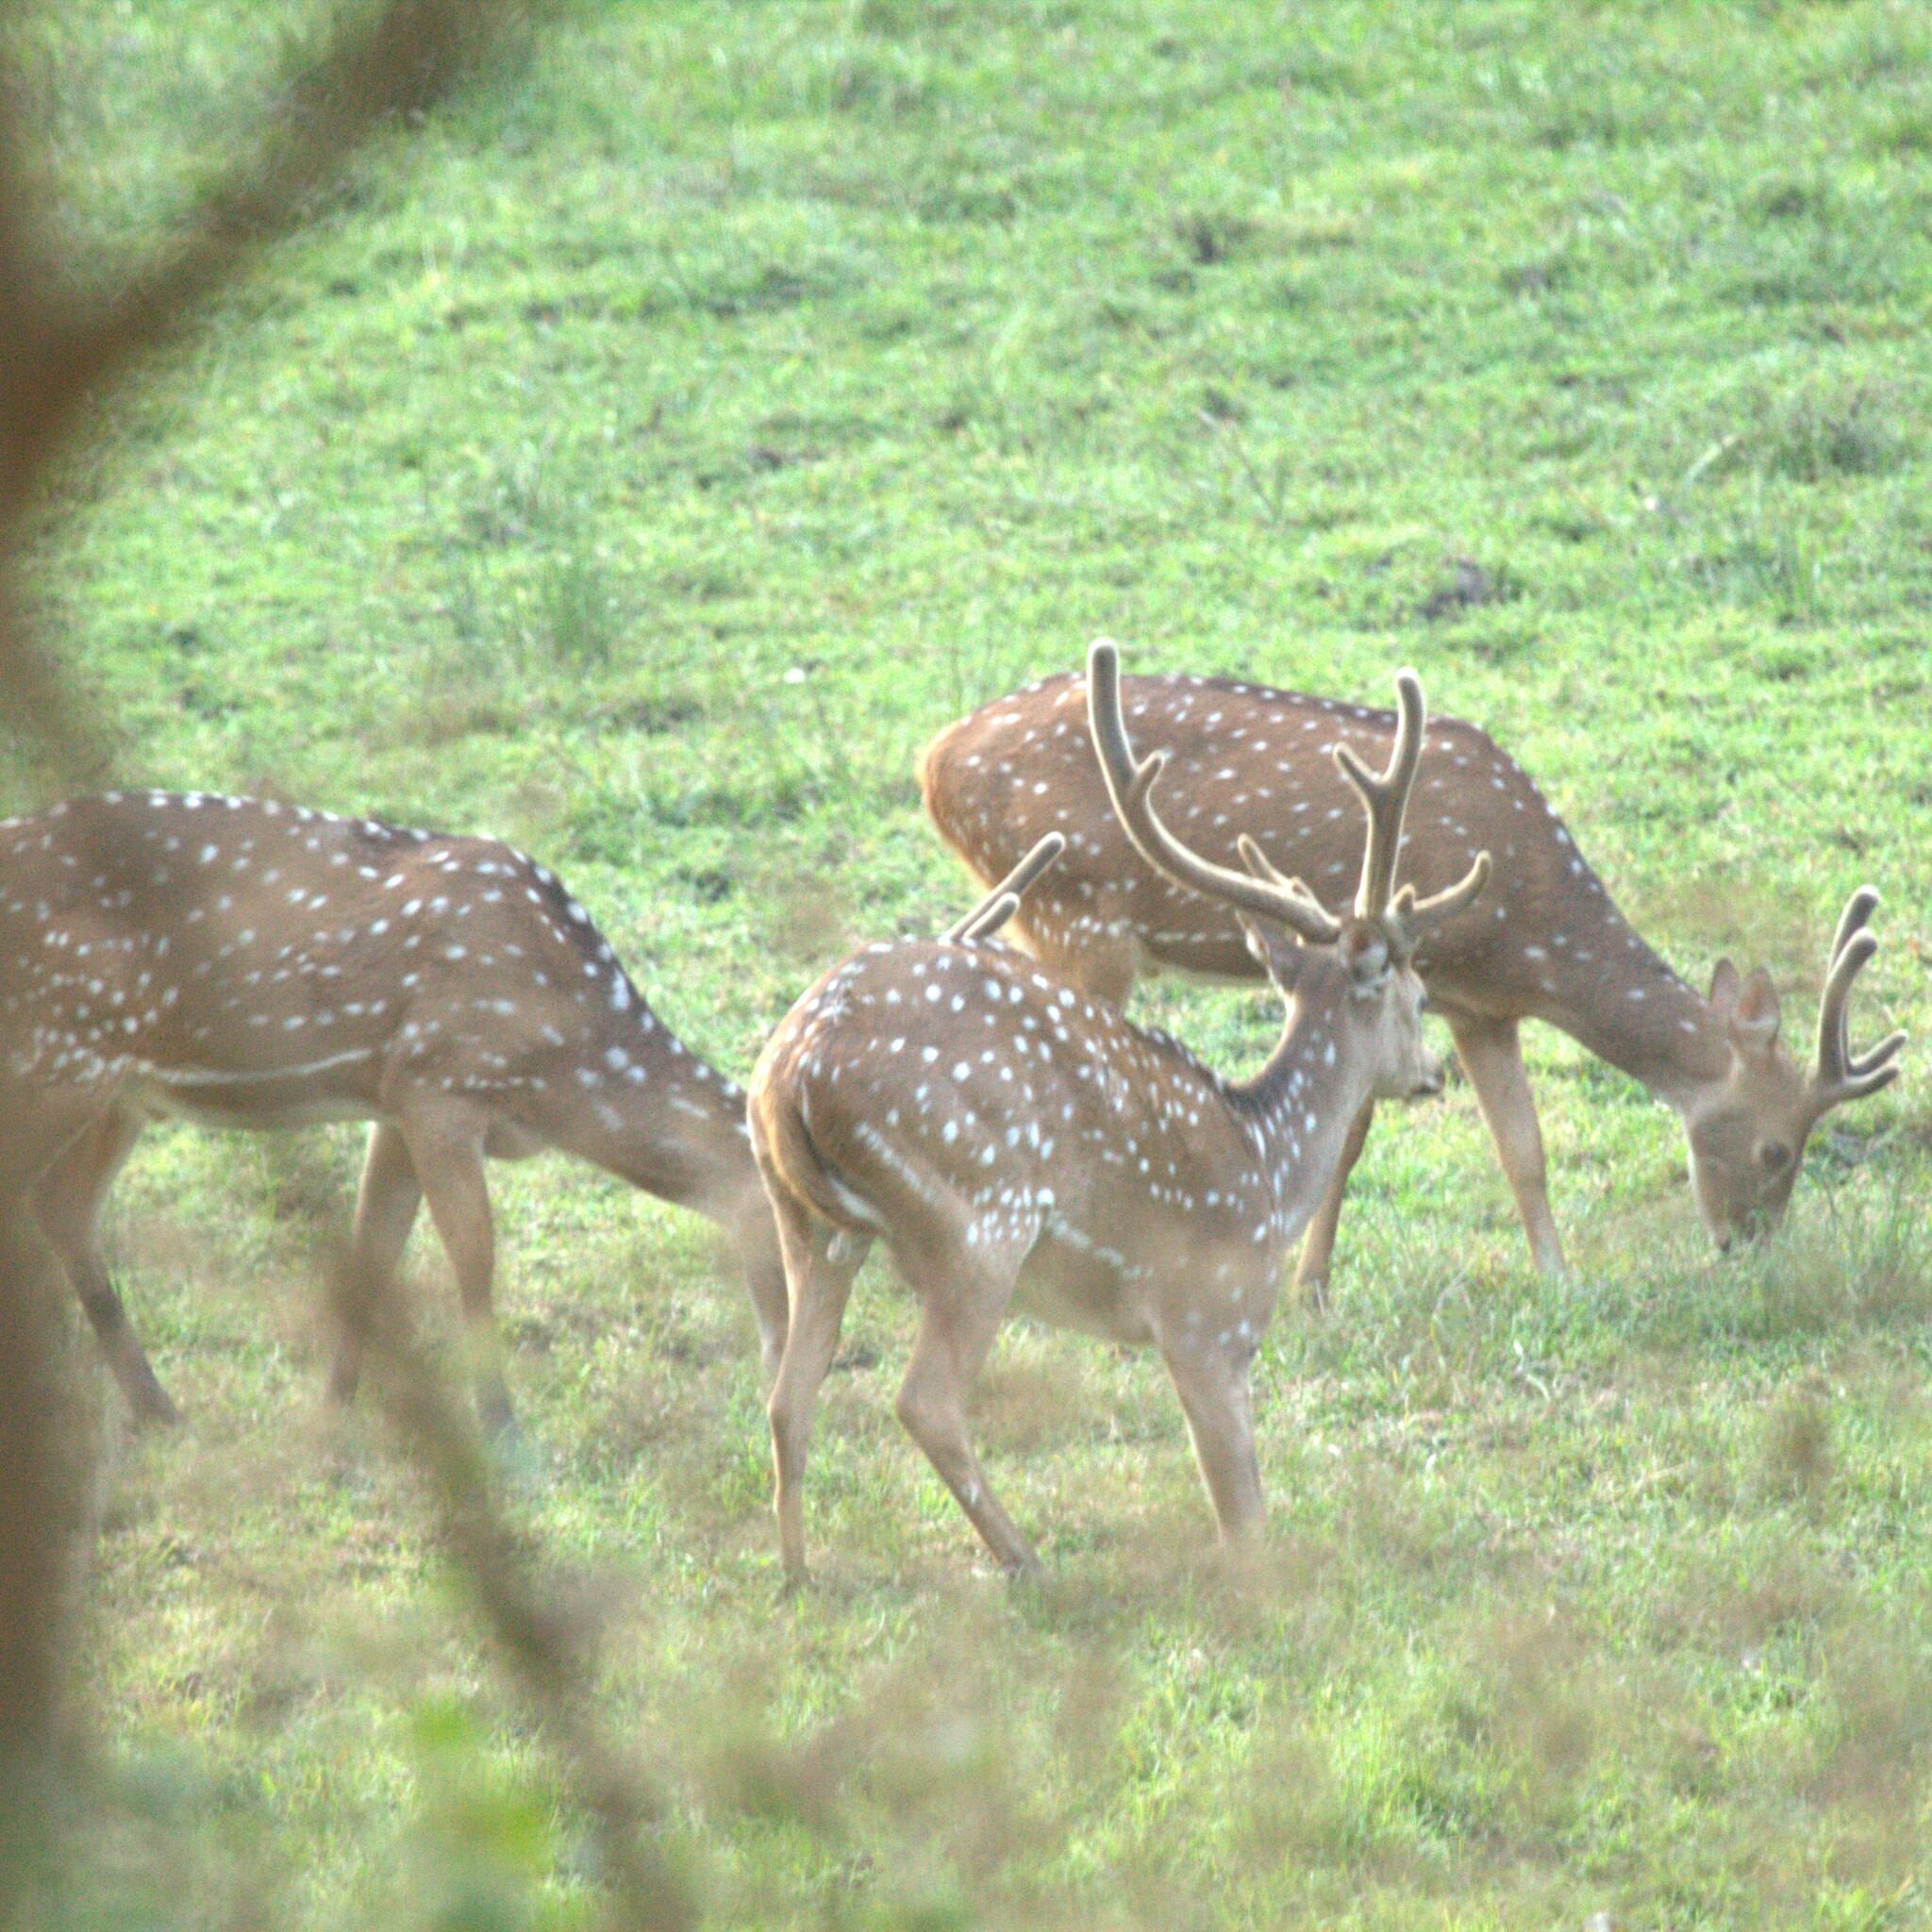Deer: (747, 640, 1490, 1582), (922, 639, 1905, 1269), (0, 793, 786, 1419)
